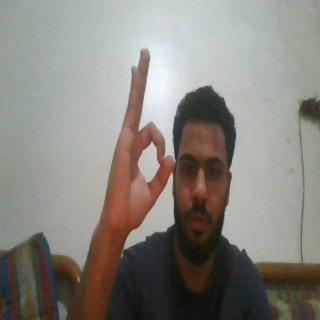Space: (96, 29, 178, 247)
